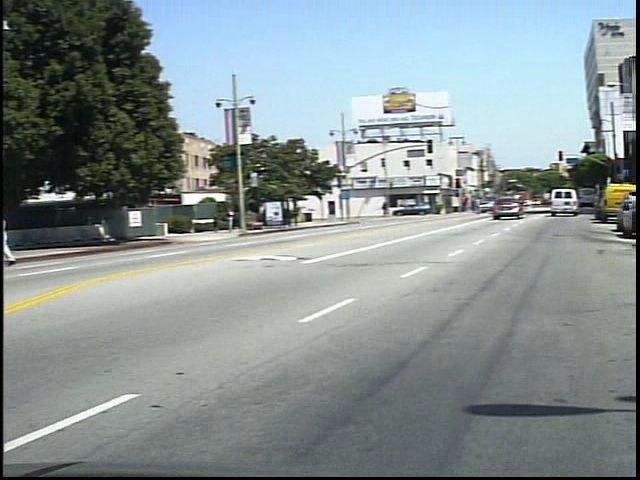person: (232, 207, 248, 236), (220, 208, 234, 234), (391, 200, 400, 218)
